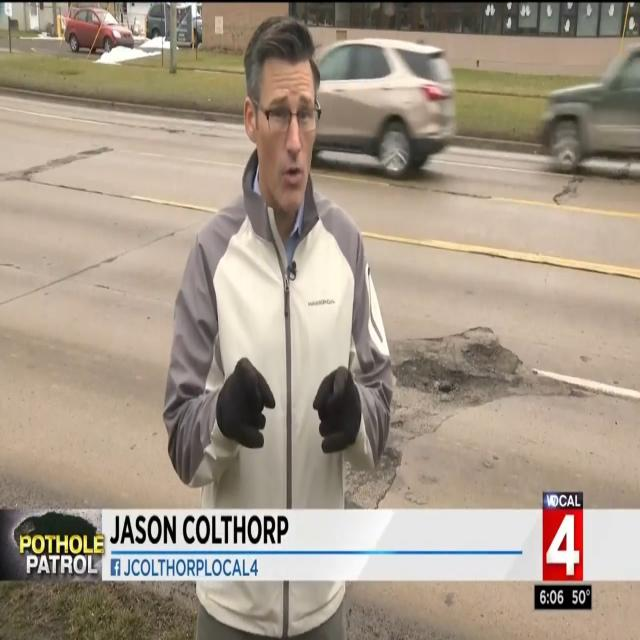pothole: (388, 326, 542, 454), (345, 447, 402, 509)
